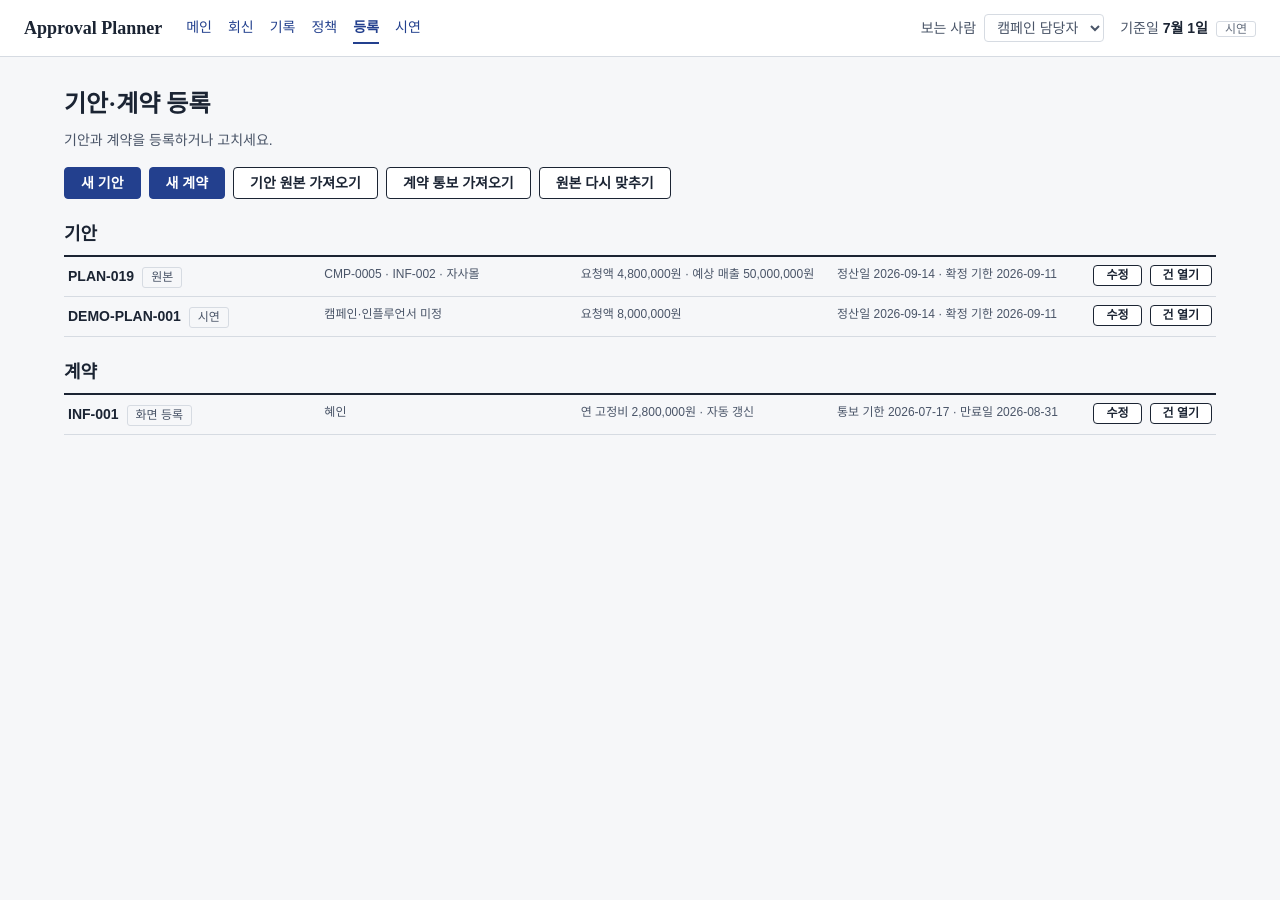
기안·계약 등록 › 건을_열지_못해도_등록은_됐다고_알린다
This screenshot has width=1280, height=900.
Step 1. Click the button "새 기안" → (102, 183), box [64,167,140,199]
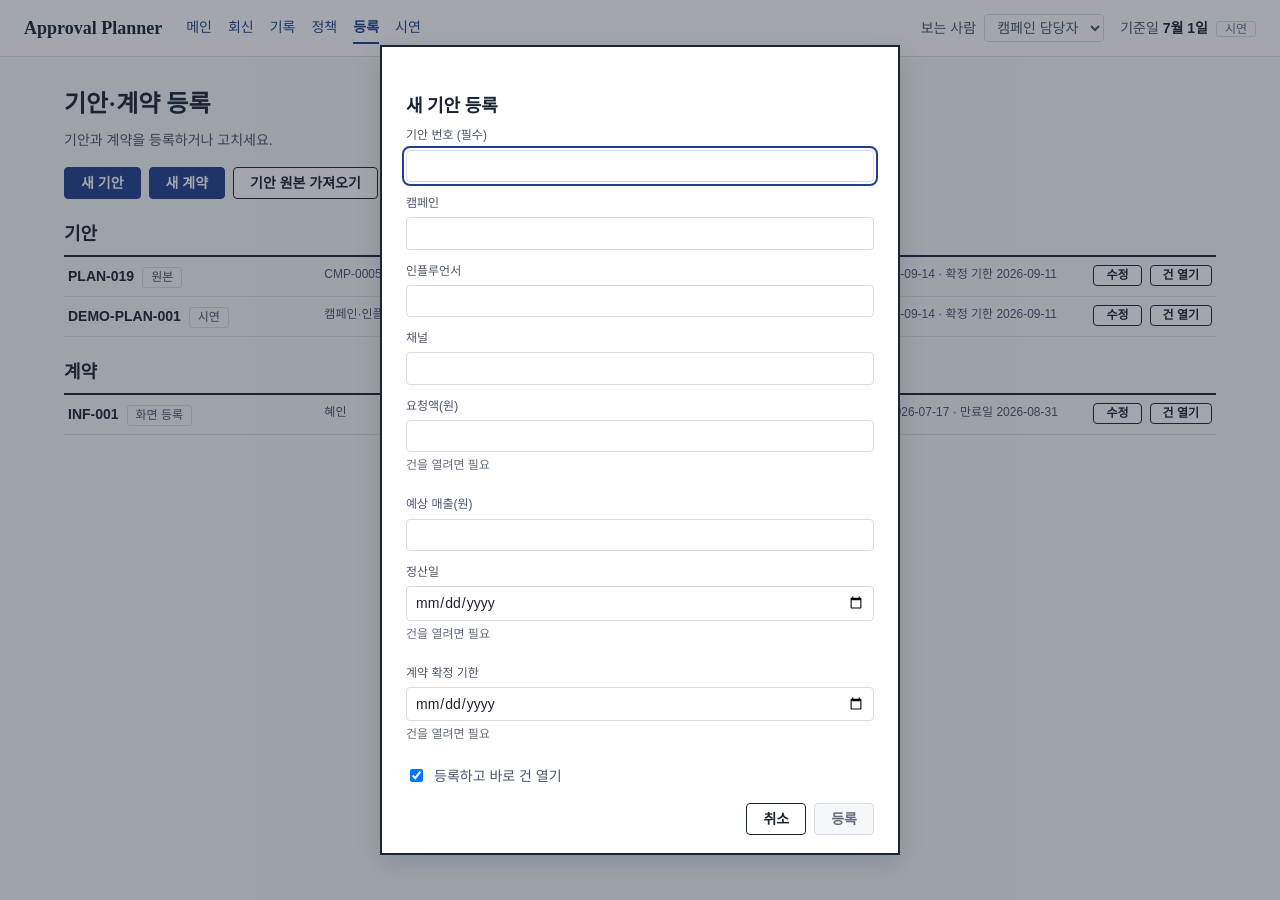
Step 2. Type "PLAN-901" into the field labelled "기안 번호 (필수)" → (640, 166), box [406,150,874,182]
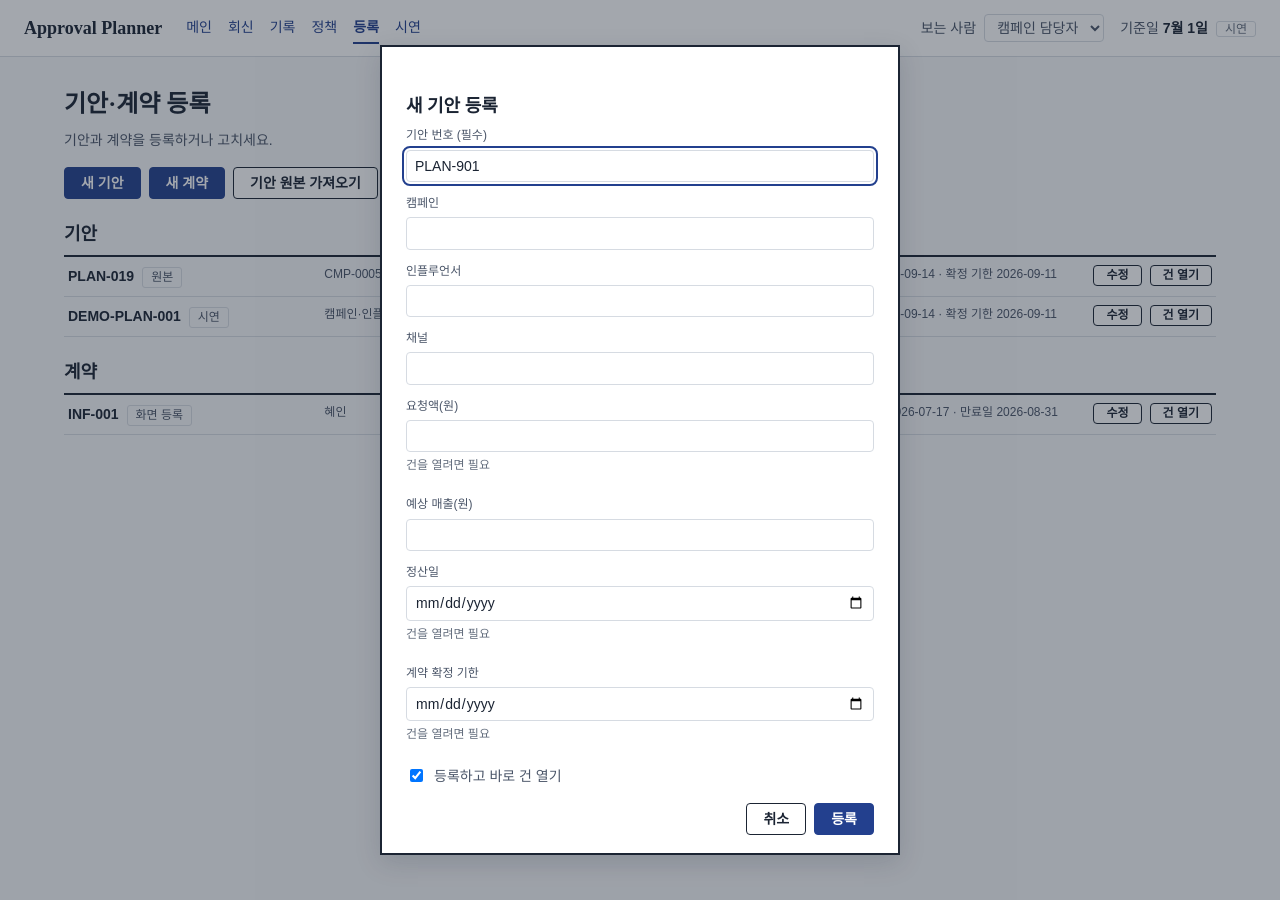
Step 3. Click the button "등록" → (844, 819), box [814,803,874,835]
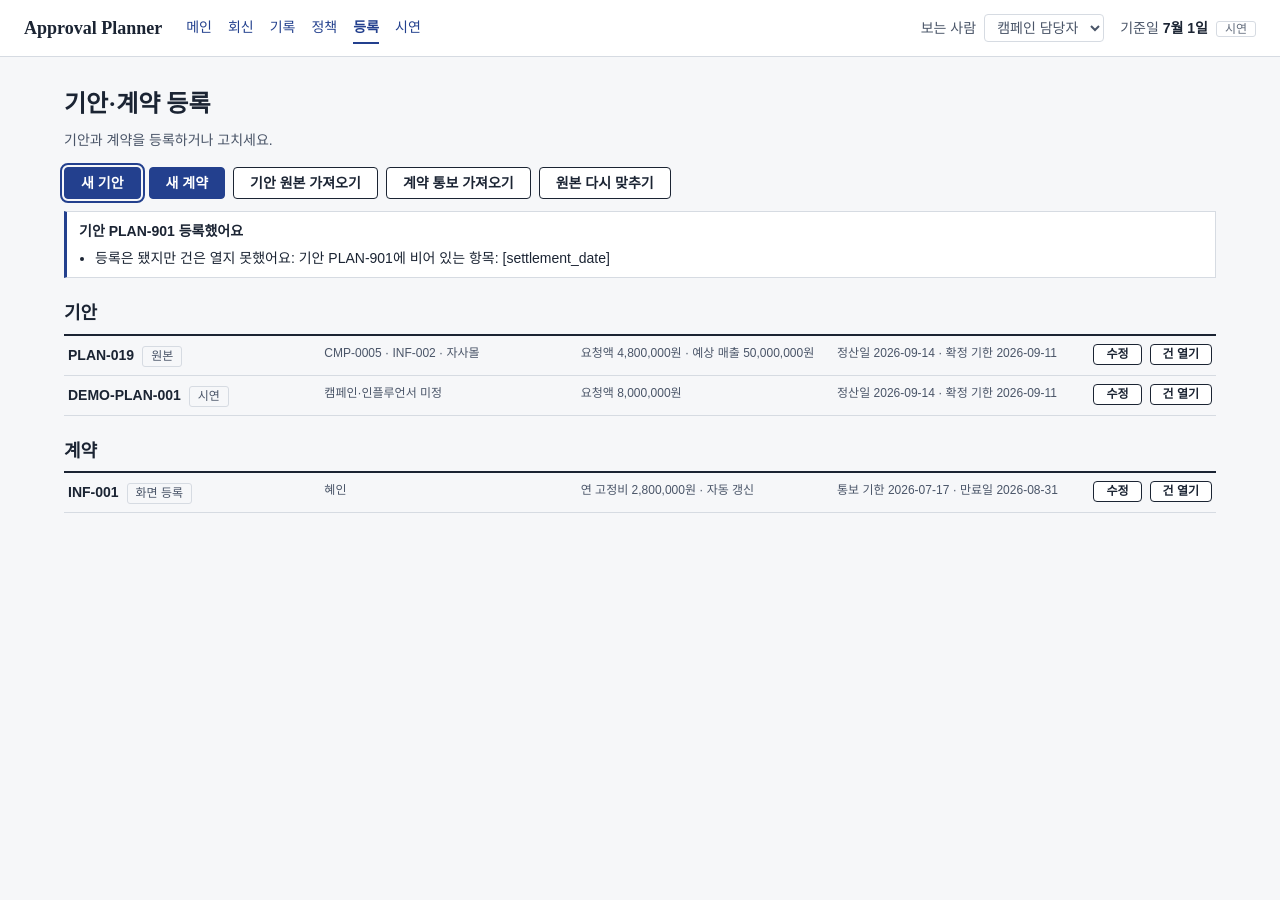
expect the message shows "등록은 됐지만 건은 열지 못했어요": met, box [95,250,610,266]
expect the message shows "비어 있는 항목": met, box [95,250,610,266]
